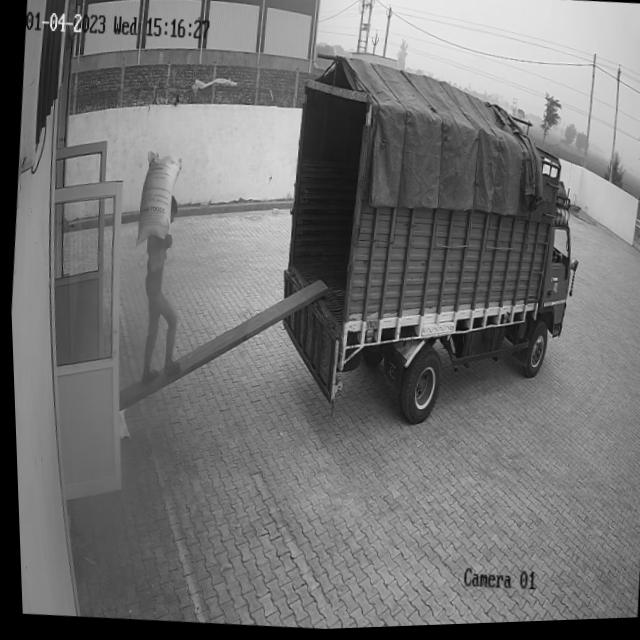sack: (130, 149, 183, 249)
